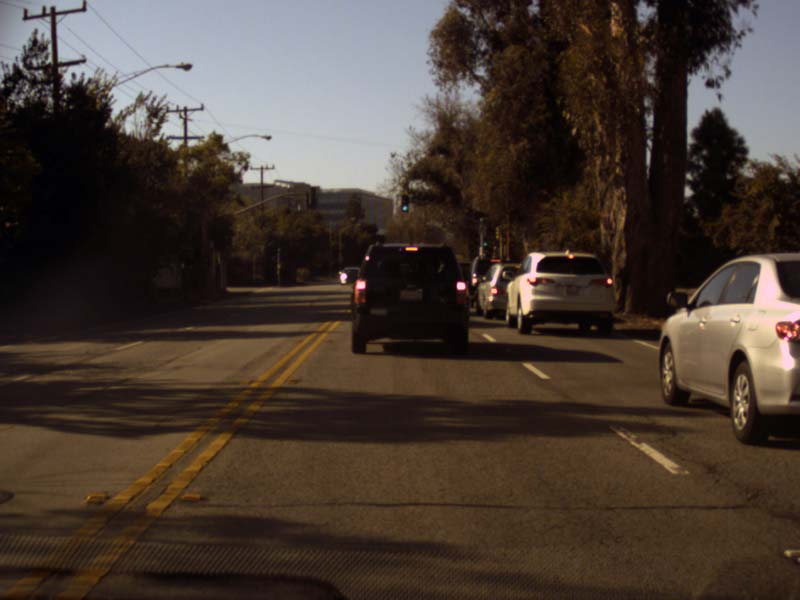Green: (401, 194, 408, 213), (482, 237, 488, 250), (276, 242, 281, 251)
